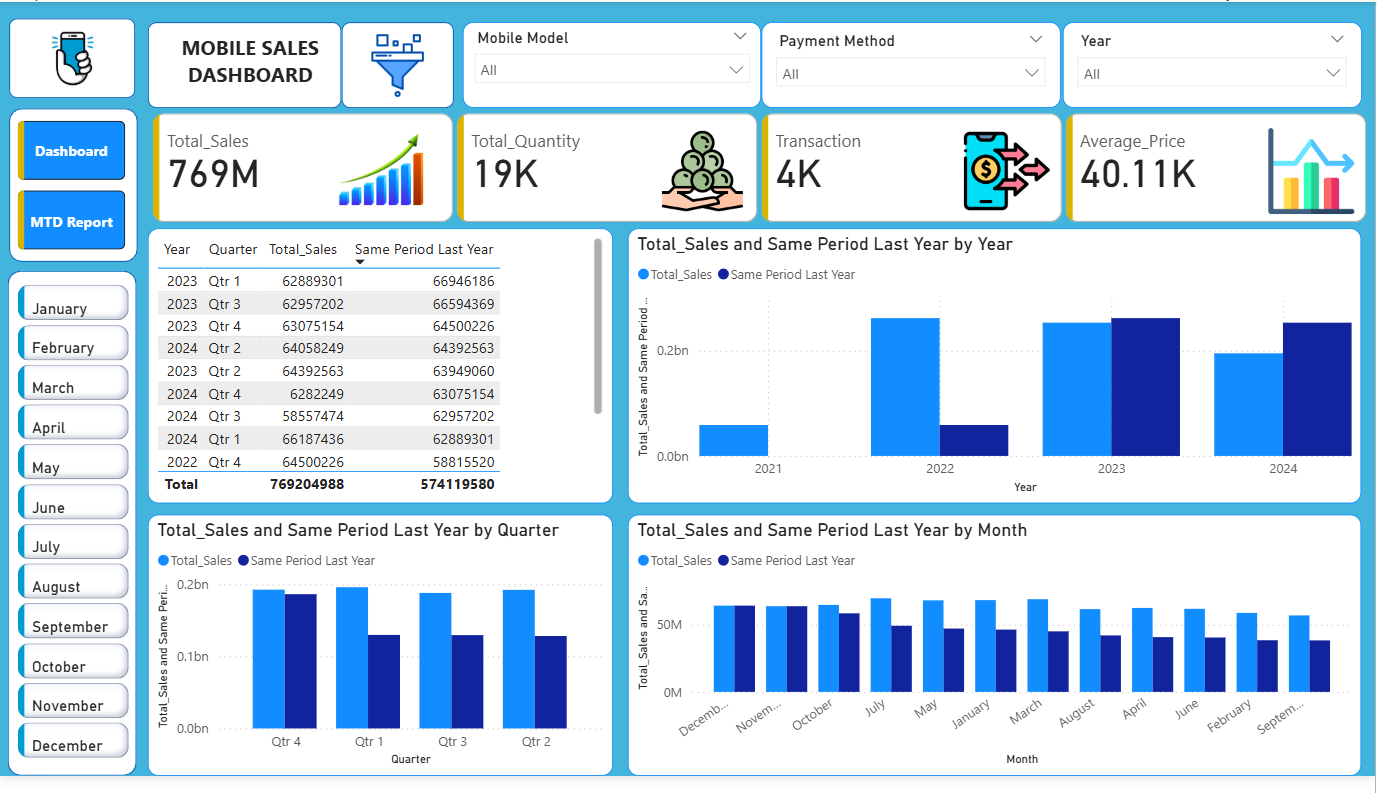

The dashboard page shown, as its layout file describes it:
{"tool":"powerbi","page":{"name":"Same Period Last Year","canvas":[1280,720],"ordinal":2},"visuals":[{"type":"shape","box":[8.1,250,119.8,469.8],"z":0},{"type":"shape","box":[9.3,15.1,117.4,74.4],"z":1000},{"type":"image","box":[31.4,15.1,74.4,74.4],"z":2000},{"type":"shape","box":[9.3,98.8,119.8,143],"z":3000},{"type":"cardVisual","fields":{"Data":["Sales_Data.Total_Sales","Sales_Data.Total_Quantity","Sales_Data.Transaction","Sales_Data.Average_Price"]},"box":[138.4,98.8,1141.9,111.6],"z":4000},{"type":"slicer","fields":{"Values":["Sales_Data.Payment Method"]},"box":[709.3,18.6,278,80.2],"z":5000},{"type":"slicer","fields":{"Values":["Custom_Calendar.Date.Variation.Date Hierarchy.Year"]},"box":[989.5,18.6,278,80.2],"z":6000},{"type":"slicer","fields":{"Values":["Sales_Data.Mobile Model"]},"box":[431.4,18.6,277.9,80.2],"z":7000},{"type":"shape","box":[318.6,18.6,104.7,80.2],"z":8000},{"type":"image","box":[325.6,24.4,90.7,69.8],"z":9000},{"type":"shape","box":[138.4,18.6,180.2,80.2],"z":10000},{"type":"textbox","box":[160.5,24.4,146.5,65.1],"z":11000},{"type":"advancedSlicerVisual","fields":{"Values":["Custom_Calendar.Date.Variation.Date Hierarchy.Month"]},"box":[12.8,258.1,114,461.6],"z":12000},{"type":"tableEx","fields":{"Values":["Custom_Calendar.Date.Variation.Date Hierarchy.Year","Custom_Calendar.Date.Variation.Date Hierarchy.Quarter","Sales_Data.Total_Sales","Sales_Data.Same Period Last Year"]},"box":[138.4,210.5,432.6,255.8],"z":13000},{"type":"clusteredColumnChart","fields":{"Y":["Sales_Data.Total_Sales","Sales_Data.Same Period Last Year"],"Category":["Custom_Calendar.Date.Variation.Date Hierarchy.Year","Custom_Calendar.Date.Variation.Date Hierarchy.Quarter","Custom_Calendar.Date.Variation.Date Hierarchy.Month","Custom_Calendar.Date.Variation.Date Hierarchy.Day"]},"box":[138.4,476.7,432.6,243],"z":13001},{"type":"clusteredColumnChart","fields":{"Category":["Custom_Calendar.Date.Variation.Date Hierarchy.Year","Custom_Calendar.Date.Variation.Date Hierarchy.Quarter","Custom_Calendar.Date.Variation.Date Hierarchy.Month","Custom_Calendar.Date.Variation.Date Hierarchy.Day"],"Y":["Sales_Data.Total_Sales","Sales_Data.Same Period Last Year"]},"box":[584.9,210.5,682.6,255.8],"z":13002},{"type":"clusteredColumnChart","fields":{"Y":["Sales_Data.Total_Sales","Sales_Data.Same Period Last Year"],"Category":["Custom_Calendar.Date.Variation.Date Hierarchy.Year","Custom_Calendar.Date.Variation.Date Hierarchy.Quarter","Custom_Calendar.Date.Variation.Date Hierarchy.Month","Custom_Calendar.Date.Variation.Date Hierarchy.Day"]},"box":[584.9,476.7,682.6,243],"z":13003},{"type":"pageNavigator","box":[17.4,110.5,100,120.9],"z":13004}]}

Visuals, with their boxes in screenshot pixels (x1, y1, x2, y2), scaled from the page's 1280x720 canvas onto the 1377x793 screenshot:
shape: [9,275,138,792]
shape: [10,17,136,99]
image: [34,17,114,99]
shape: [10,109,139,266]
cardVisual - Sales_Data.Total_Sales x Sales_Data.Total_Quantity: [149,109,1376,232]
slicer - Sales_Data.Payment Method: [763,20,1062,109]
slicer - Custom_Calendar.Date.Variation.Date Hierarchy.Year: [1064,20,1364,109]
slicer - Sales_Data.Mobile Model: [464,20,763,109]
shape: [343,20,455,109]
image: [350,27,448,104]
shape: [149,20,343,109]
textbox: [173,27,330,99]
advancedSlicerVisual - Custom_Calendar.Date.Variation.Date Hierarchy.Month: [14,284,136,792]
tableEx - Custom_Calendar.Date.Variation.Date Hierarchy.Year x Custom_Calendar.Date.Variation.Date Hierarchy.Quarter: [149,232,614,514]
clusteredColumnChart - Sales_Data.Total_Sales x Sales_Data.Same Period Last Year: [149,525,614,792]
clusteredColumnChart - Custom_Calendar.Date.Variation.Date Hierarchy.Year x Custom_Calendar.Date.Variation.Date Hierarchy.Quarter: [629,232,1364,514]
clusteredColumnChart - Sales_Data.Total_Sales x Sales_Data.Same Period Last Year: [629,525,1364,792]
pageNavigator: [19,122,126,255]
